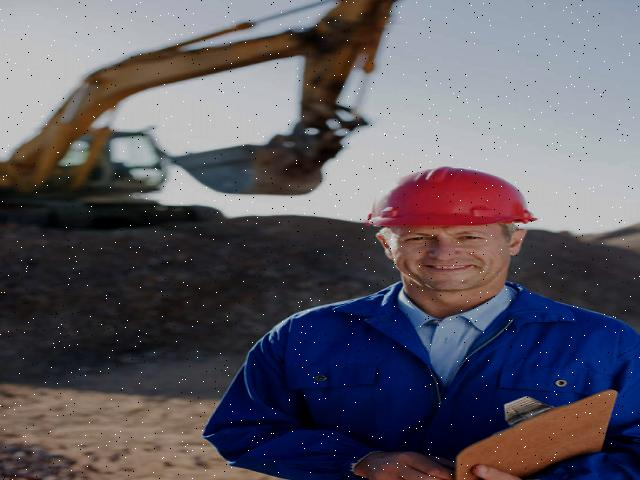Helmet: (358, 163, 542, 233)
